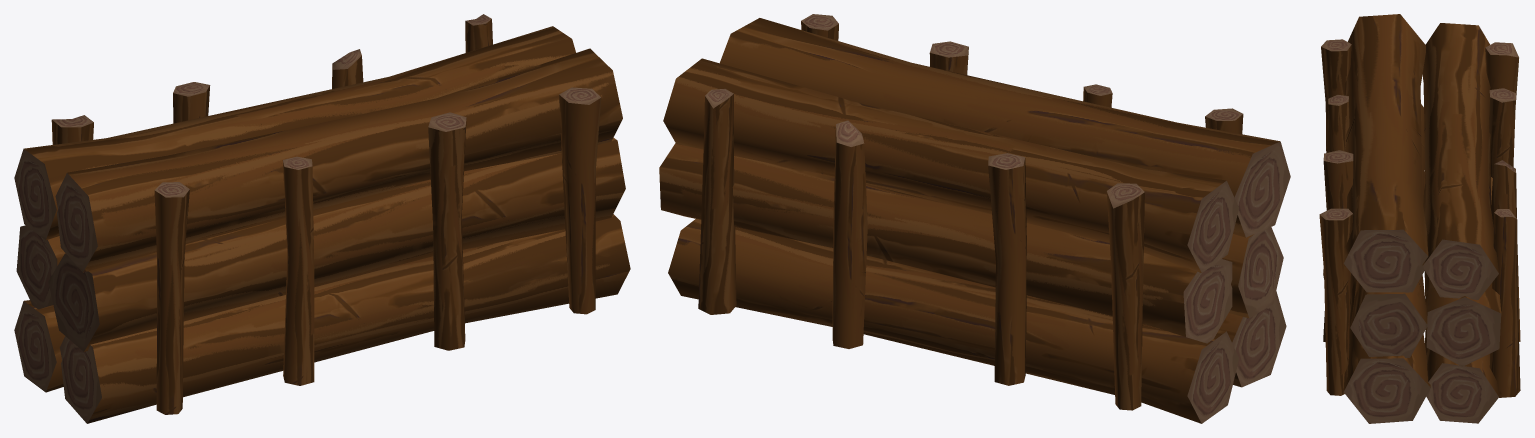
File: SM_PROP_barricade_battle_05.fbx
The picture shows the model from 3 angles, left to right: view 1: azimuth 30°, elevation 25°; view 2: azimuth 150°, elevation 25°; view 3: azimuth 270°, elevation 25°; orthographic projection. The views are drawn at different scales.
Parts seen in each view (by area): view 1: SM_PROP_barricade_battle_05; view 2: SM_PROP_barricade_battle_05; view 3: SM_PROP_barricade_battle_05.
Boxes of the visible parts, left/top/right/bottom form: SM_PROP_barricade_battle_05: left=14, top=14, right=630, bottom=423; SM_PROP_barricade_battle_05: left=659, top=14, right=1290, bottom=423; SM_PROP_barricade_battle_05: left=1319, top=14, right=1520, bottom=423.
Bounding box in the file's own units: 407 × 172 × 159.
